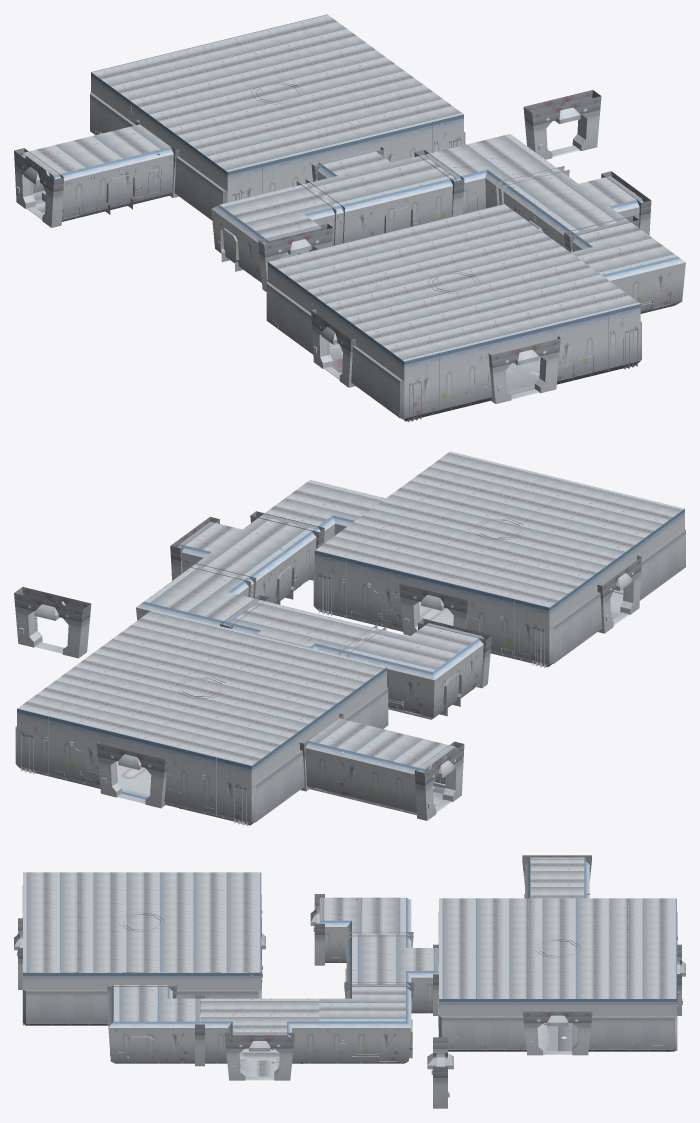
Rendered from Combined_Mesh_root_scene__15_7f71ba4d__ZombiesII_laboratory_01_d_47037629_c1f257.obj.
The picture shows the model from 3 angles, top to bottom: view 1: azimuth 30°, elevation 25°; view 2: azimuth 150°, elevation 25°; view 3: azimuth 270°, elevation 25°; orthographic projection. The views are drawn at different scales.
Size of the model in its own units: 84.62 by 10.34 by 113.
Materials: 591 (591 with a texture image).
